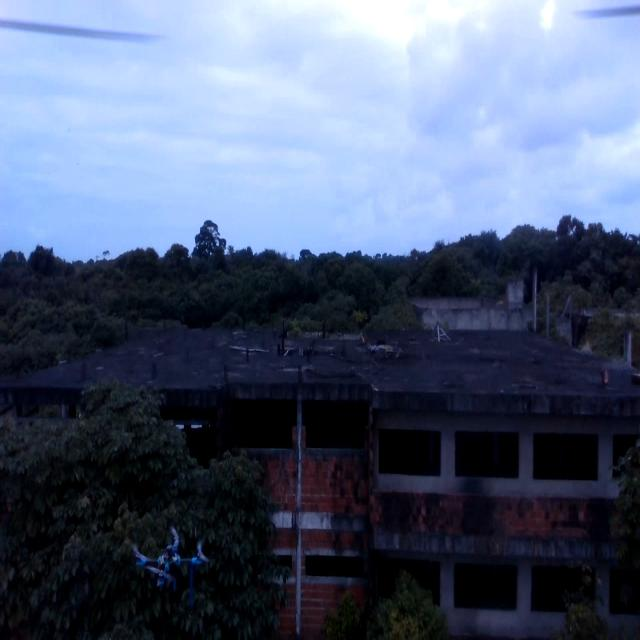-uav-: (126, 533, 216, 627)
